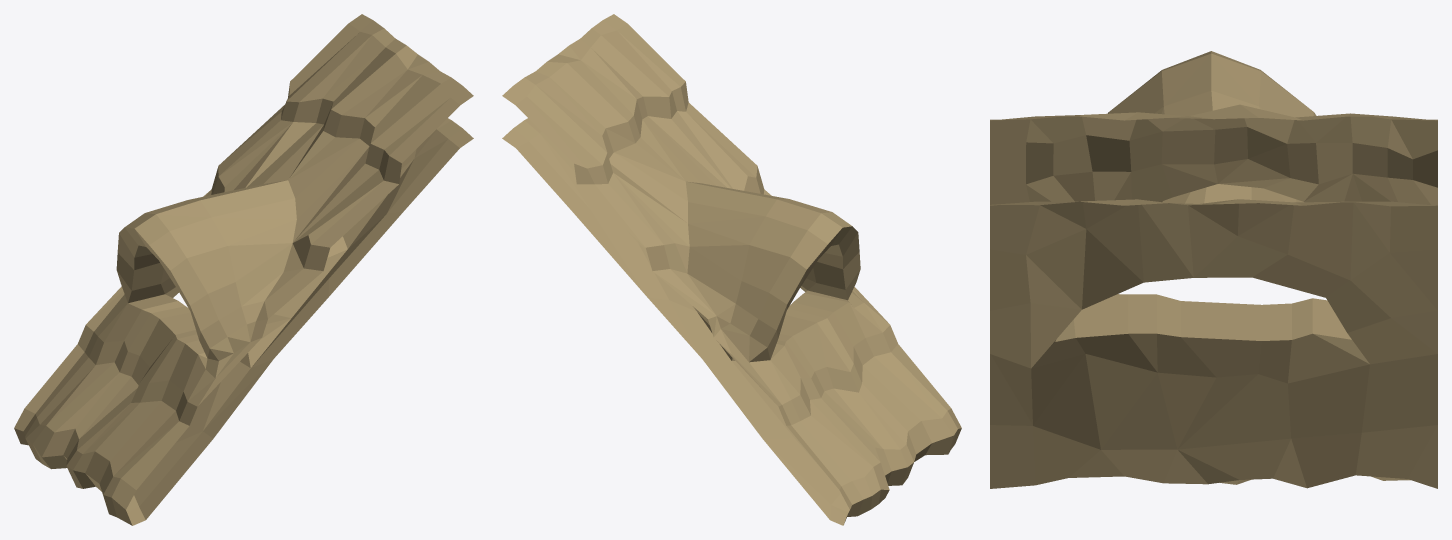
File: rpgpp_ag_roof_02d_9x4x3_half.fbx
3 renders of one model, left to right at view 1: azimuth 30°, elevation 25°; view 2: azimuth 150°, elevation 25°; view 3: azimuth 270°, elevation 25°, orthographic. The views are drawn at different scales.
Visible parts, largest first — view 1: rpgpp_ag_roof_02d_9x4x3_half; view 2: rpgpp_ag_roof_02d_9x4x3_half; view 3: rpgpp_ag_roof_02d_9x4x3_half.
Boxes of the visible parts, x1,y1,x2,y2 form: rpgpp_ag_roof_02d_9x4x3_half: [14, 14, 473, 525]; rpgpp_ag_roof_02d_9x4x3_half: [502, 14, 961, 525]; rpgpp_ag_roof_02d_9x4x3_half: [990, 51, 1437, 488].
Bounding box in the file's own units: 5.5 × 5.17 × 3.
